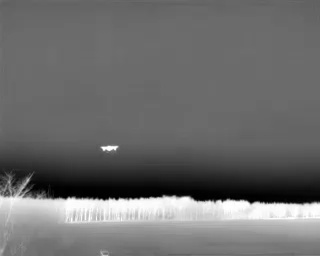DRONE: (96, 140, 123, 159)
